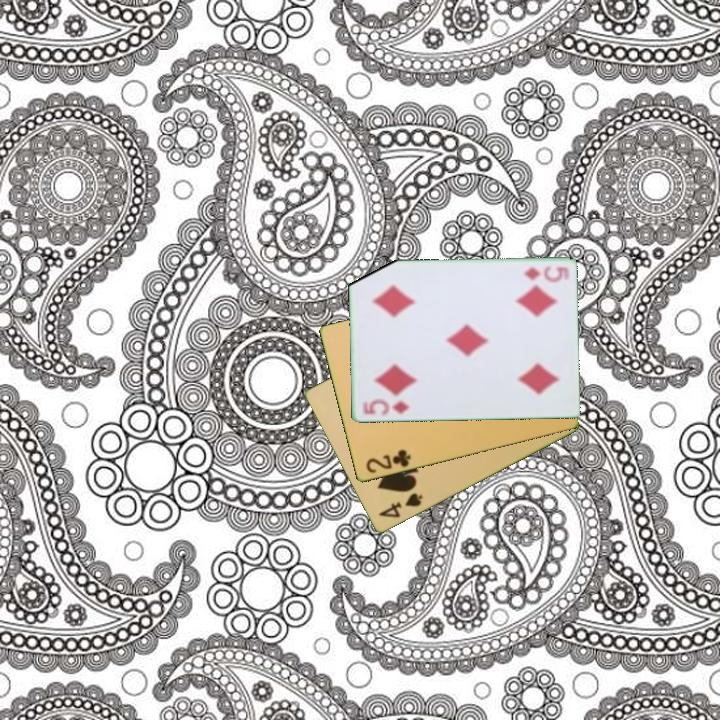2c: (362, 446, 414, 476)
4s: (375, 490, 426, 521)
5d: (358, 396, 412, 419), (520, 262, 572, 284)
